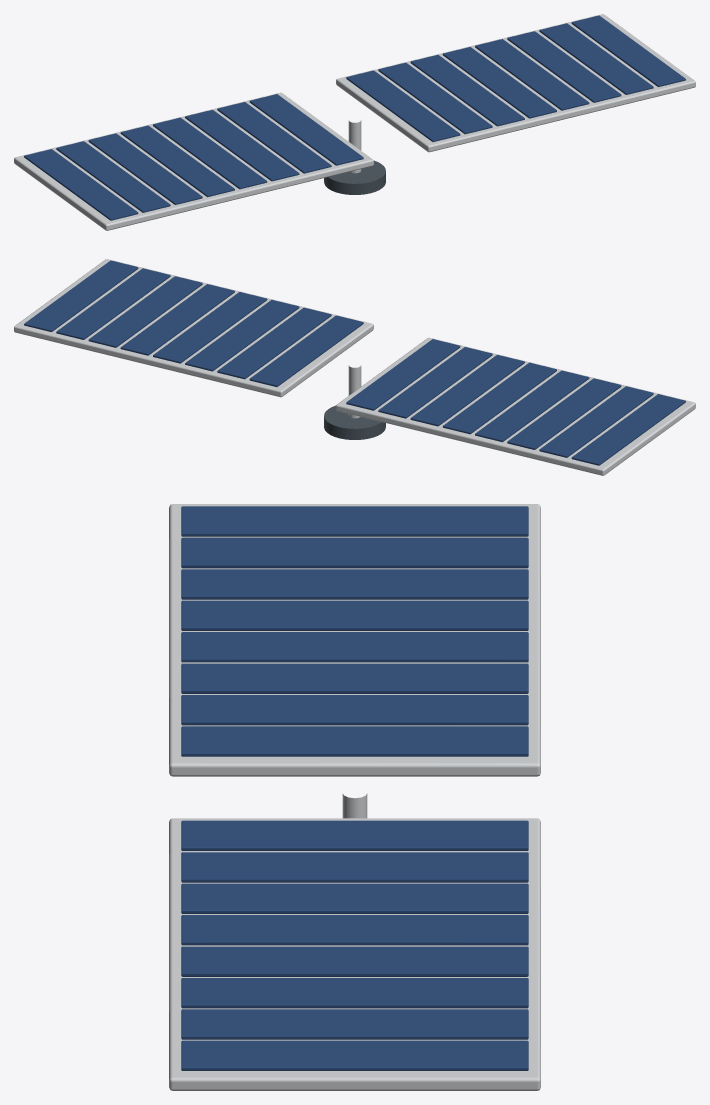
3 renders of one model, top to bottom at view 1: azimuth 30°, elevation 25°; view 2: azimuth 150°, elevation 25°; view 3: azimuth 270°, elevation 25°, orthographic. The views are drawn at different scales.
Parts seen in each view (by area): view 1: station-solar-array; view 2: station-solar-array; view 3: station-solar-array.
Boxes of the visible parts, bbox=[...] form: station-solar-array: bbox=[14, 14, 695, 230]; station-solar-array: bbox=[14, 259, 695, 475]; station-solar-array: bbox=[169, 504, 540, 1090].
Size of the model in its own units: 11 by 1.16 by 3.
